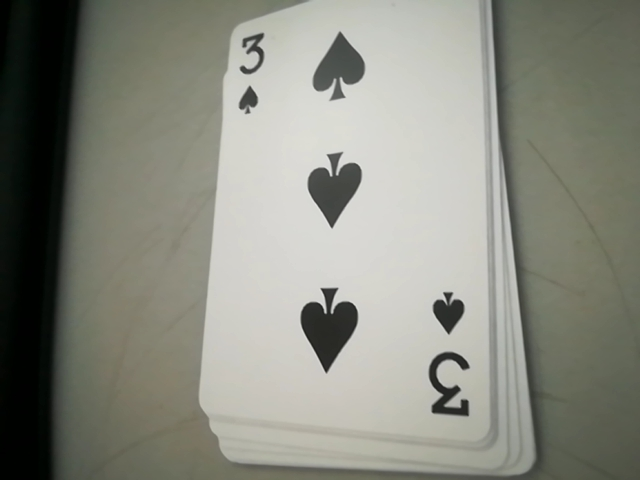ht 3: (422, 294, 478, 423)
